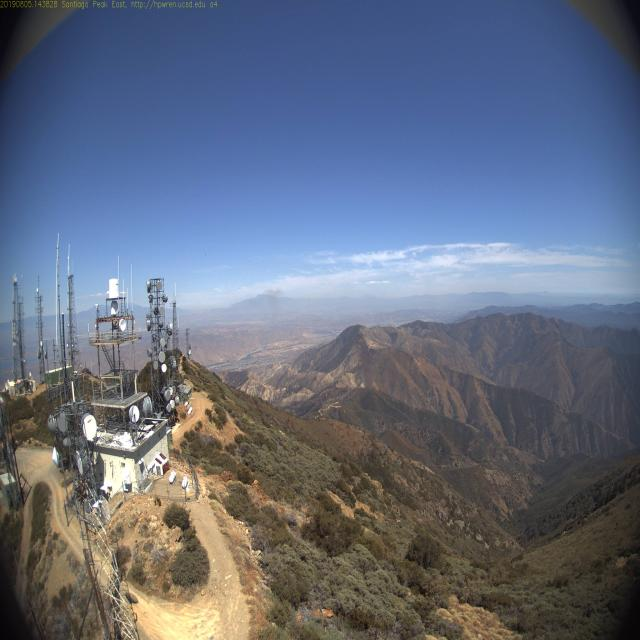smoke: (255, 308, 279, 348)
